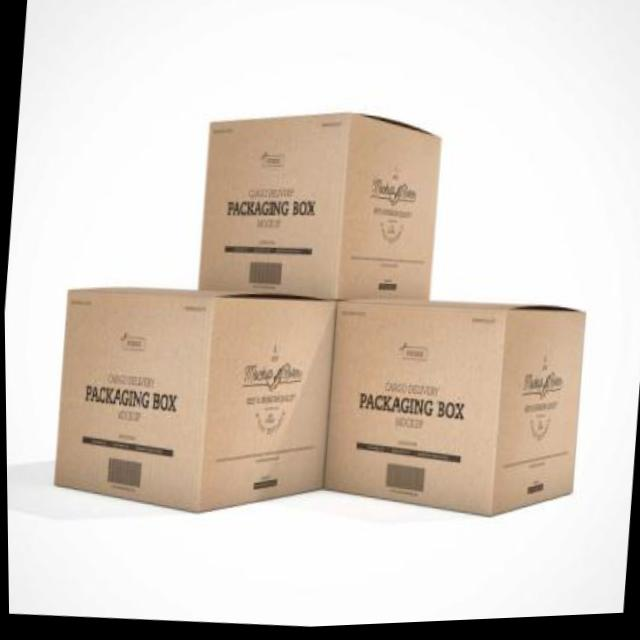box: (43, 268, 339, 532), (316, 278, 597, 545), (183, 90, 462, 328)
